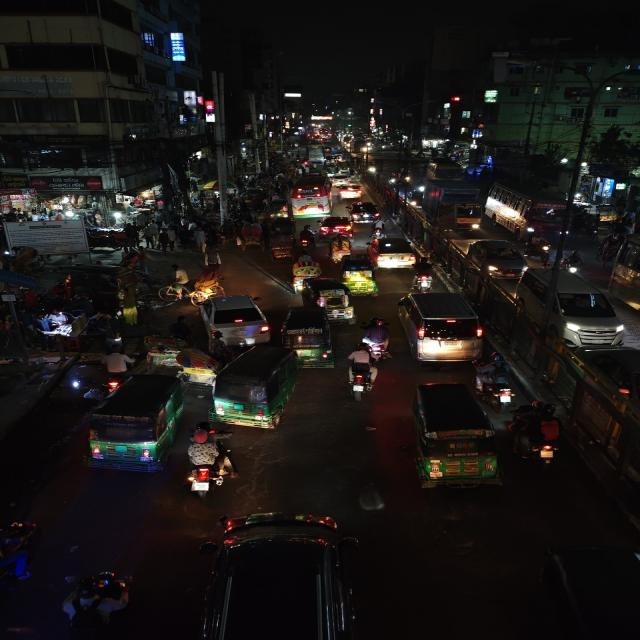bus: (80, 371, 188, 476), (486, 180, 579, 238), (608, 222, 640, 330), (285, 175, 334, 217)
car: (200, 510, 362, 639), (515, 266, 626, 350), (397, 289, 486, 366), (194, 293, 272, 345), (465, 237, 529, 279), (367, 234, 419, 270), (316, 215, 354, 237), (348, 200, 382, 222), (337, 183, 365, 199)
cng: (81, 372, 188, 477), (406, 380, 502, 496), (211, 345, 300, 431), (281, 306, 336, 368), (299, 278, 356, 318), (341, 256, 378, 296), (266, 198, 294, 218)
motorcycle: (180, 428, 238, 497), (70, 572, 135, 633), (510, 399, 564, 468), (474, 356, 520, 408), (345, 343, 379, 399), (358, 316, 391, 361), (100, 348, 132, 392), (411, 261, 438, 291), (324, 235, 352, 262), (559, 250, 586, 275), (298, 224, 316, 250), (370, 216, 388, 238)
pedestrian: (160, 264, 192, 303), (199, 230, 225, 268), (158, 227, 177, 254)
rickshaw: (176, 347, 218, 385), (141, 335, 183, 367), (265, 228, 296, 258), (290, 252, 322, 280), (327, 234, 352, 262)
truck: (422, 175, 482, 233)
